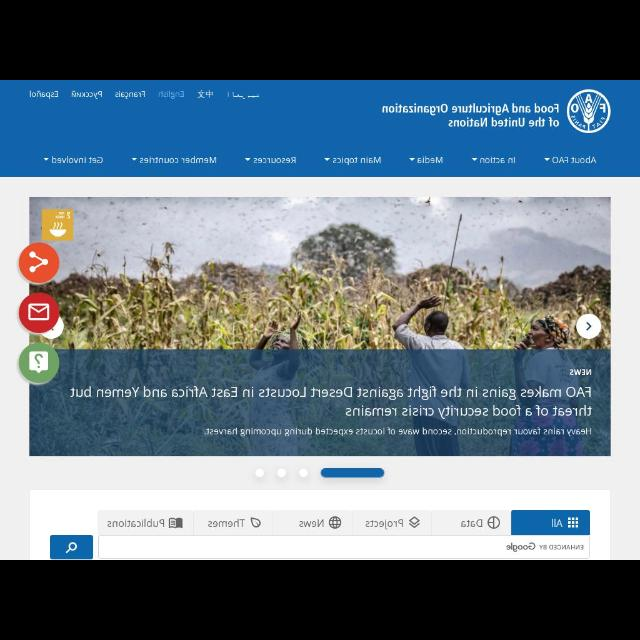button: (20, 243, 58, 284), (18, 293, 58, 331), (19, 344, 59, 382), (49, 536, 92, 558)
icon: (28, 252, 50, 272), (29, 352, 47, 374), (28, 304, 48, 322), (566, 517, 582, 529), (328, 516, 342, 528), (168, 519, 184, 529), (486, 516, 499, 528), (408, 516, 419, 530), (65, 542, 77, 554), (249, 518, 261, 528), (469, 156, 479, 162), (544, 156, 552, 162), (586, 323, 592, 331), (408, 157, 416, 161), (244, 158, 252, 162), (324, 157, 330, 161), (44, 156, 48, 162), (131, 158, 137, 160)
image: (29, 197, 610, 456), (568, 89, 612, 133)
input: (98, 536, 588, 558)
multitab: (99, 512, 589, 534)
pageindicator: (254, 468, 308, 478)
spinner: (132, 155, 215, 165), (322, 157, 382, 167), (542, 155, 596, 165), (44, 156, 104, 164), (469, 156, 516, 166), (243, 156, 294, 164), (408, 156, 444, 164)
text: (70, 384, 592, 418), (380, 103, 560, 129), (203, 428, 593, 438), (139, 156, 217, 166), (106, 519, 164, 529), (334, 156, 382, 166), (364, 519, 404, 531), (553, 156, 597, 166), (539, 542, 583, 552), (232, 88, 262, 102), (52, 156, 104, 164), (208, 518, 245, 528), (253, 156, 297, 164), (71, 90, 103, 100), (115, 90, 146, 100), (29, 90, 60, 100), (481, 157, 515, 166), (506, 543, 536, 553), (158, 90, 186, 100), (194, 88, 213, 100), (416, 156, 444, 164), (570, 367, 592, 377), (462, 519, 484, 529), (299, 520, 325, 528), (550, 518, 562, 528)
toolbar: (1, 80, 639, 176)
